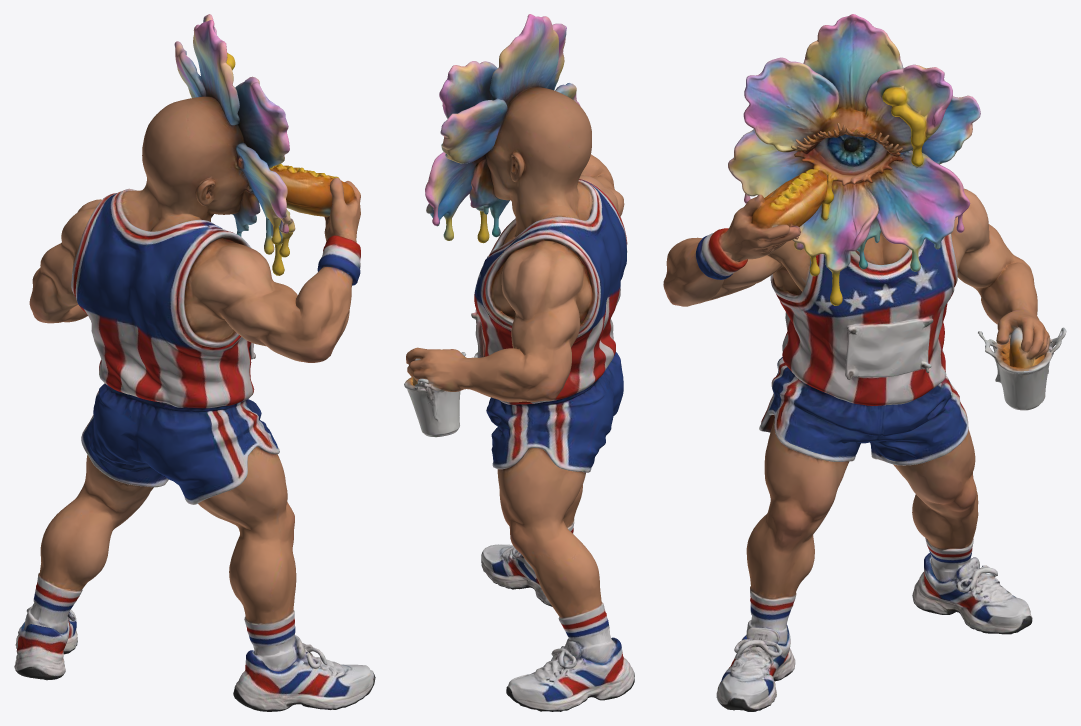
The model's file is oy_eater.glb.
3 views of the same model, side by side, from view 1: azimuth 30°, elevation 25°; view 2: azimuth 150°, elevation 25°; view 3: azimuth 270°, elevation 25° (orthographic). The views are drawn at different scales.
Parts seen in each view (by area): view 1: tripo_node_b572d9a9-6282-4af8-9491-cb77f6d86658; view 2: tripo_node_b572d9a9-6282-4af8-9491-cb77f6d86658; view 3: tripo_node_b572d9a9-6282-4af8-9491-cb77f6d86658.
Part boxes in pixels (x1,y1,x2,y2): tripo_node_b572d9a9-6282-4af8-9491-cb77f6d86658: [14, 14, 375, 711]; tripo_node_b572d9a9-6282-4af8-9491-cb77f6d86658: [404, 14, 634, 711]; tripo_node_b572d9a9-6282-4af8-9491-cb77f6d86658: [663, 14, 1066, 711].
Bounding box in the file's own units: 0.4113 × 1 × 0.5582.
1 material, 1 textured.
